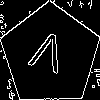V: (25, 29, 68, 83)
